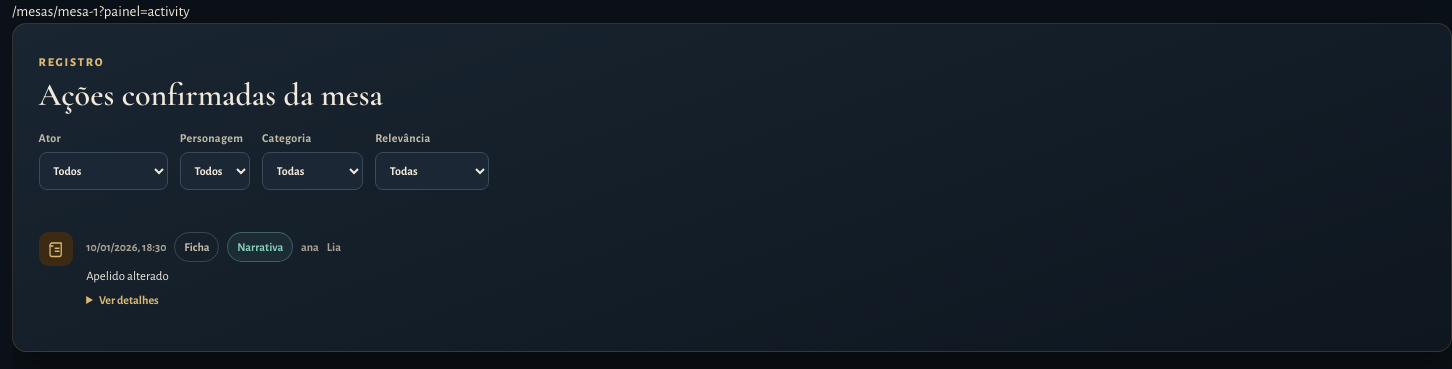
Test case: AuditLog — 7.4/7.5/7.6 registro de auditoria › combina os filtros de ator e relevância, refletindo-os na URL e na consulta enviada
Expected: the text "Apelido alterado" is shown, [86, 270, 169, 283]
Select "ana (jogador)" in the dropdown labelled "Ator" at (103, 171), box [39, 152, 168, 190]
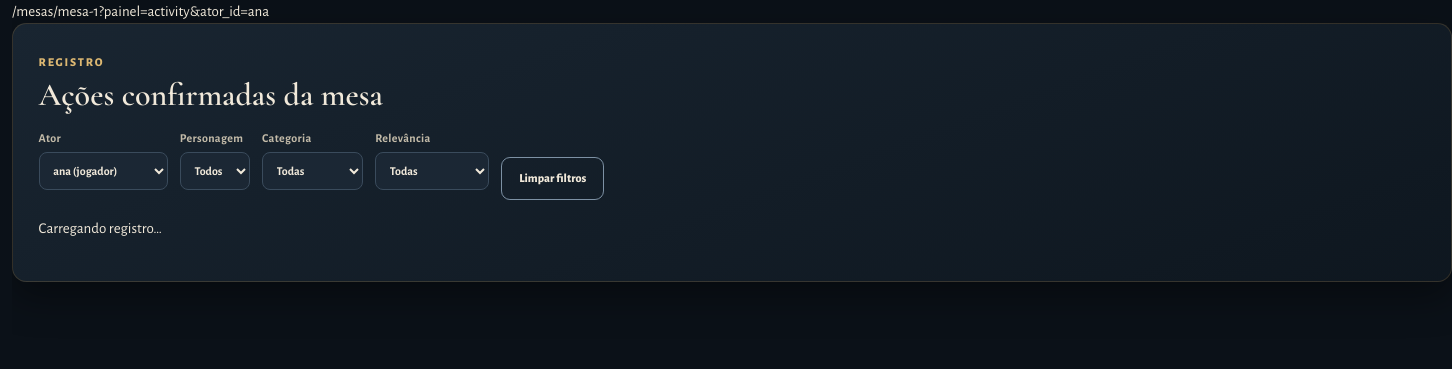
Select "Narrativa" in the dropdown labelled "Relevância" at (432, 171), box [375, 152, 489, 190]
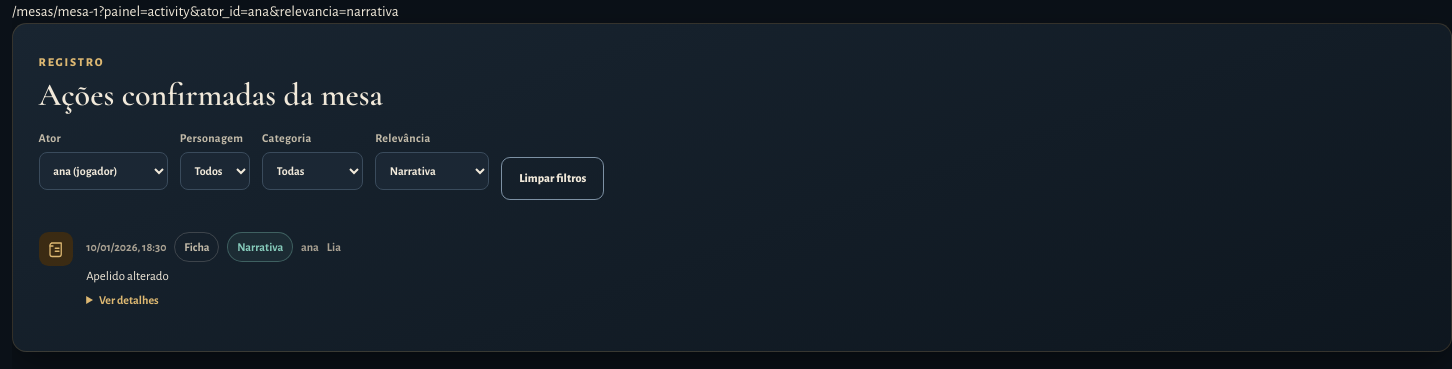
Expected: the text with test id "location" shows "ator_id=ana", [99, 4, 399, 19]
Expected: the text with test id "location" shows "relevancia=narrativa", [99, 4, 399, 19]
